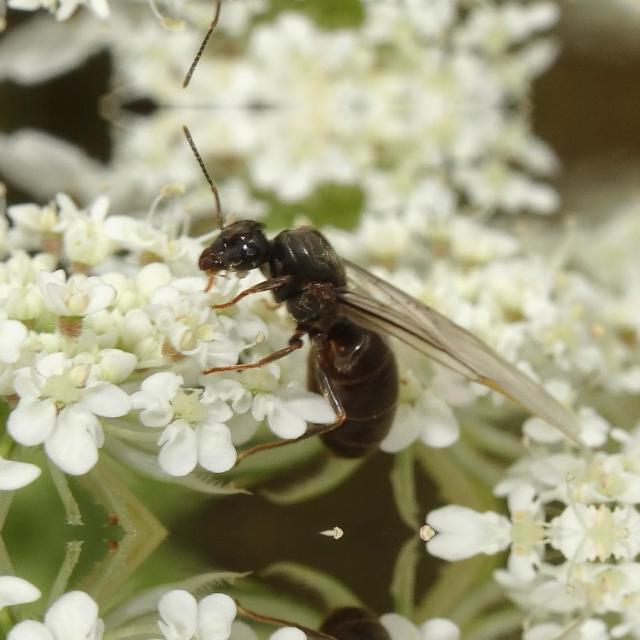Lasius: (190, 196, 452, 476)
